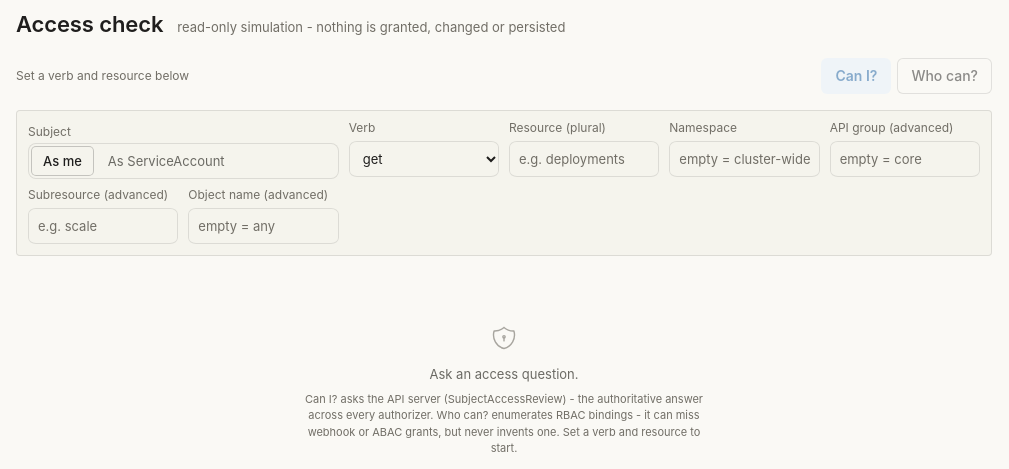
AccessView (redesign step 5) › an answer names the exact question it answered and who was checked; no lamp
Type "deployments" into the field named "resource" at point(584, 159), box [509, 139, 659, 179]
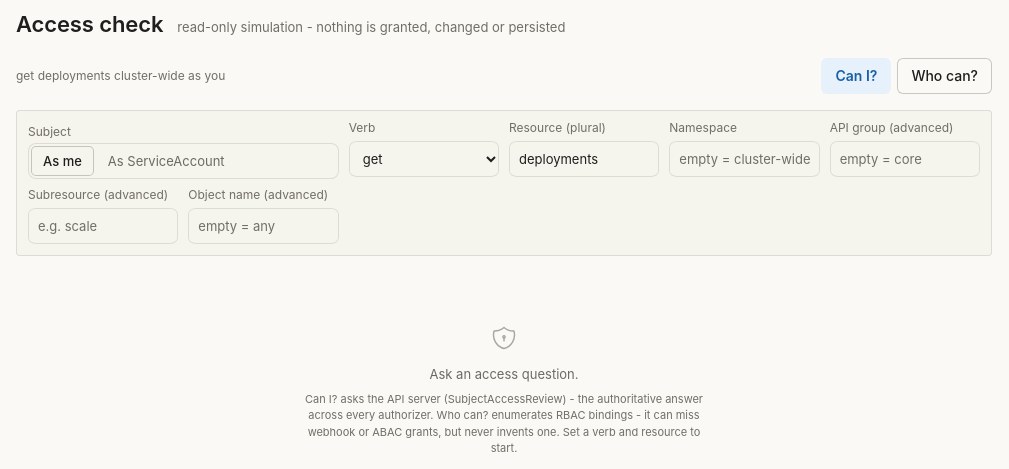
Type "apps" into the field named "api group" at point(905, 159), box [830, 139, 980, 179]
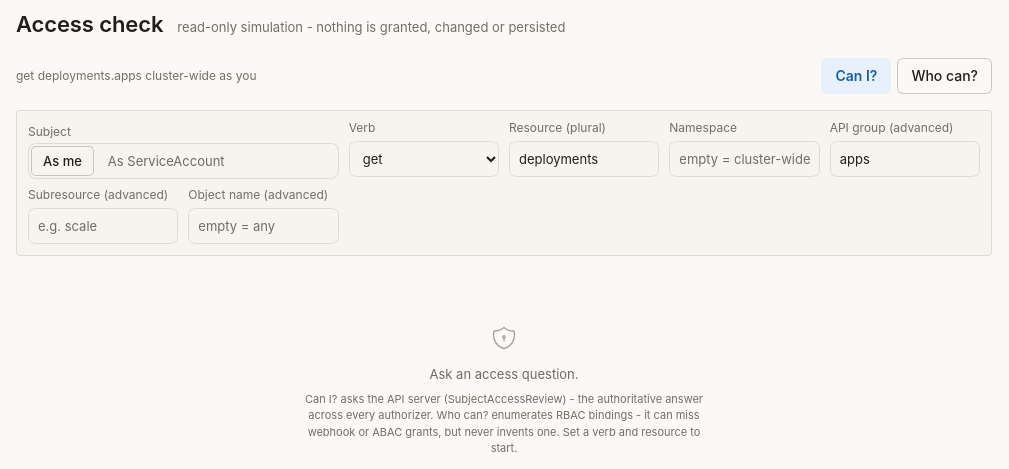
Click the button "Can I?" at point(856, 76), box [821, 58, 891, 94]
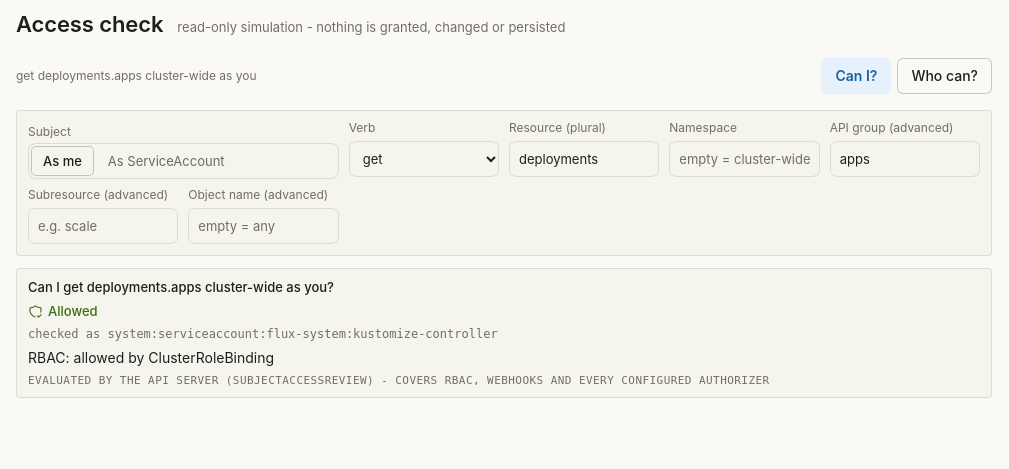
Expected: the text "Allowed" is shown, [28, 302, 98, 320]
Expected: the text "Can I get deployments.apps cluster-wide as you?" is shown, [28, 279, 334, 295]
Expected: the text "checked as system:serviceaccount" is shown, [28, 327, 498, 341]
